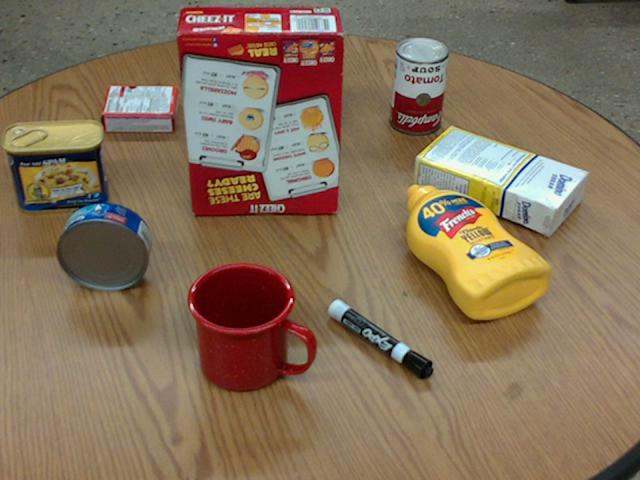cracker_box: (176, 7, 345, 213)
gelatin_box: (101, 85, 177, 131)
large_marker: (327, 299, 432, 378)
master_chef_can: (247, 7, 339, 128)
mug: (187, 262, 316, 392)
mustard_bottle: (405, 184, 549, 318)
potted_meat_can: (1, 120, 108, 215)
sugar_box: (411, 128, 588, 233)
tomato_soup_can: (387, 36, 446, 132)
tuna_fish_can: (56, 202, 151, 291)
